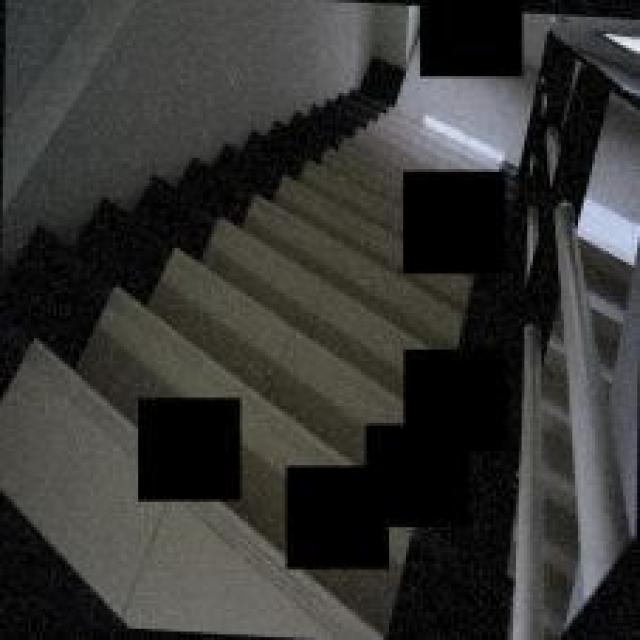downstair: (190, 182, 379, 388)
